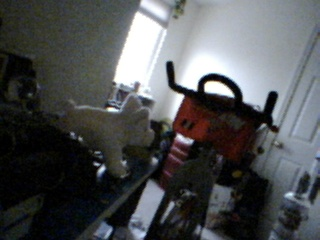piggy: (61, 91, 157, 179)
